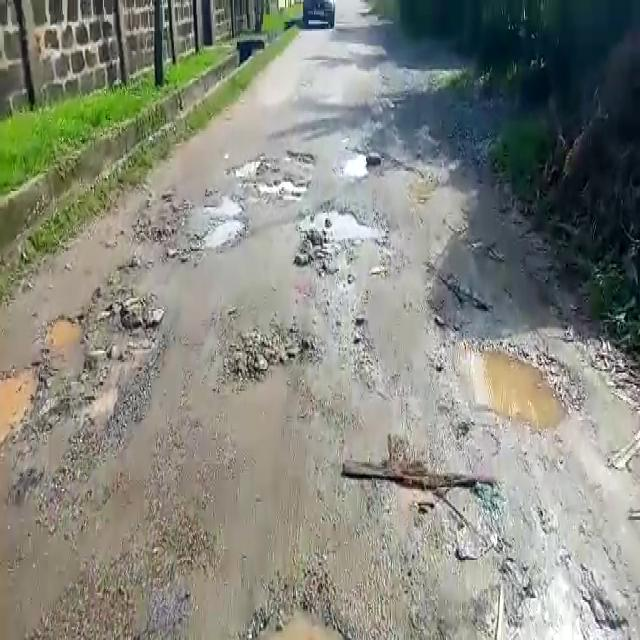Pothole: (445, 331, 577, 432), (42, 298, 155, 390), (247, 576, 351, 640), (297, 202, 387, 252), (1, 358, 40, 444), (194, 218, 252, 255), (192, 190, 245, 221), (336, 150, 374, 180), (223, 153, 264, 178), (250, 180, 309, 197)
